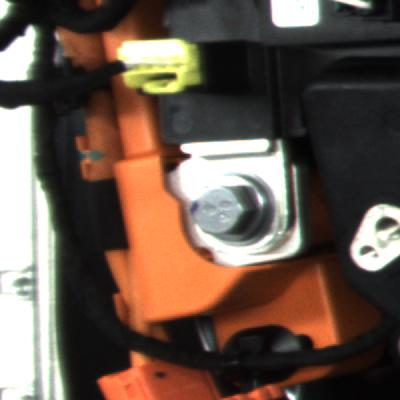nut_b: (179, 171, 275, 249)
